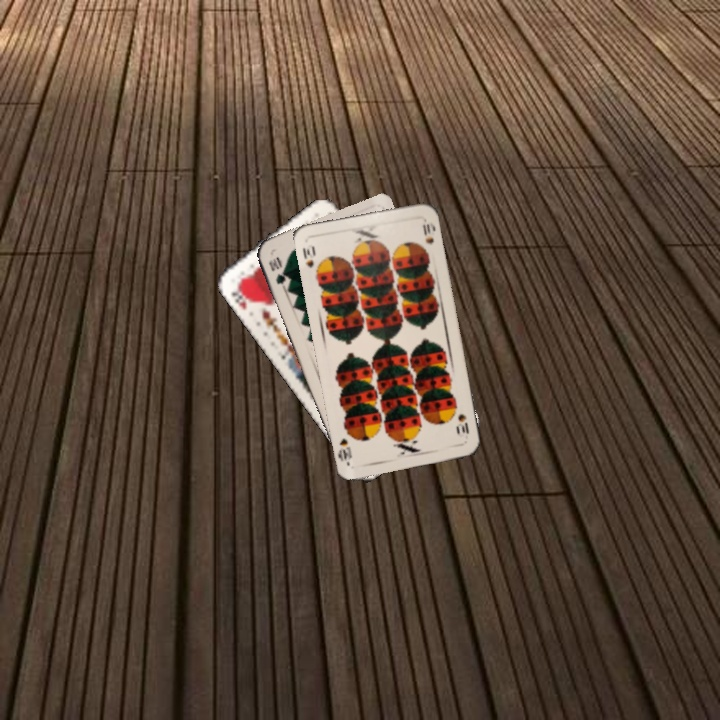G10: (264, 253, 288, 287)
HK: (226, 278, 255, 313)
S10: (298, 242, 322, 278), (454, 410, 471, 439)
